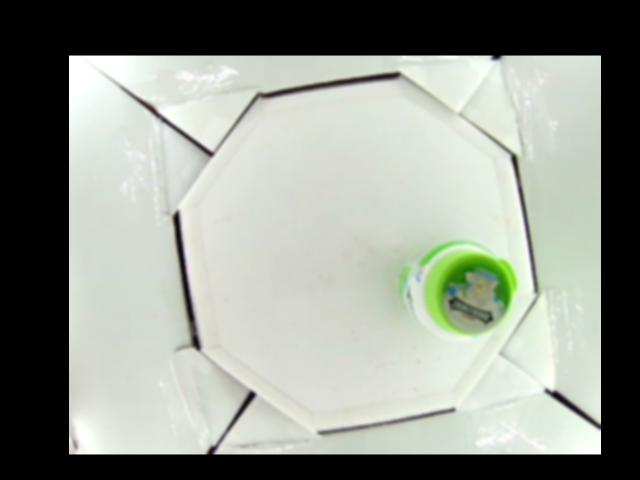Bottle: (398, 241, 520, 340)
